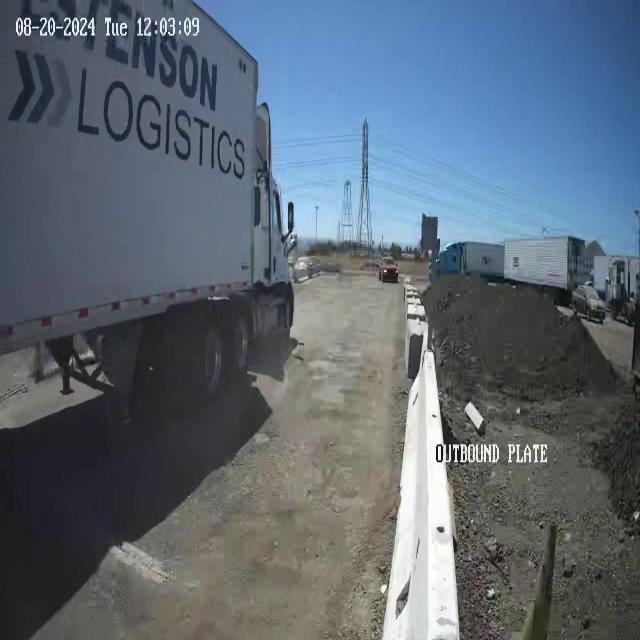TRUCK_CONTAINER: (1, 1, 298, 450)
